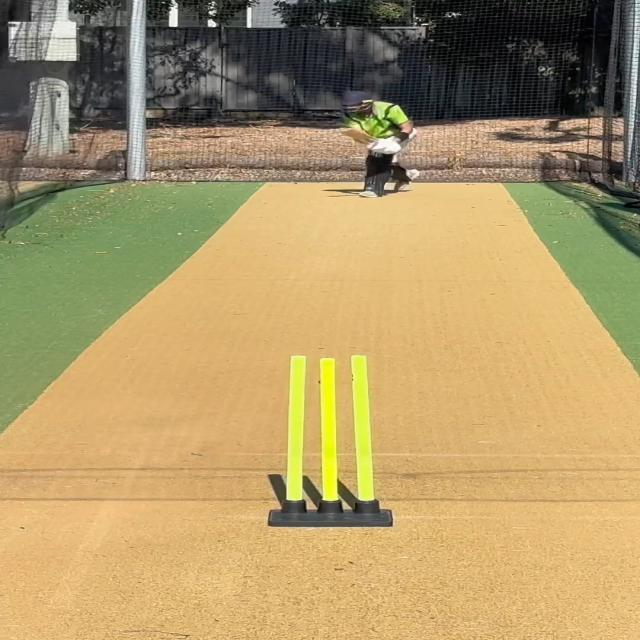stump: (266, 353, 396, 528)
